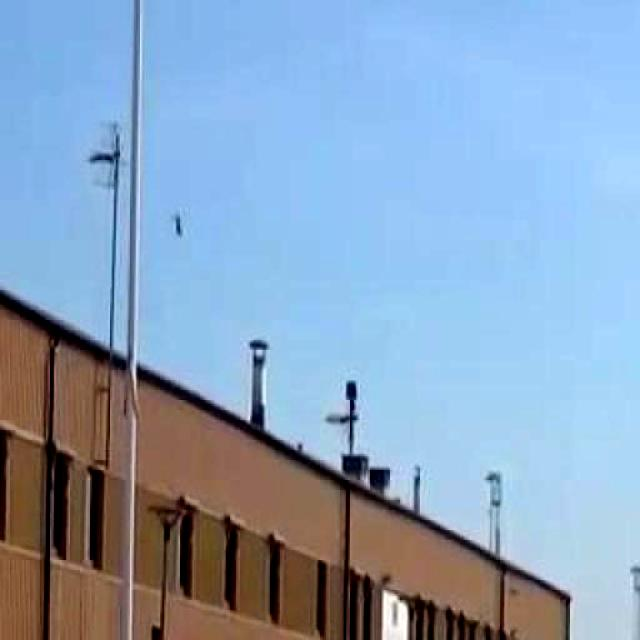drone: (160, 189, 204, 255)
